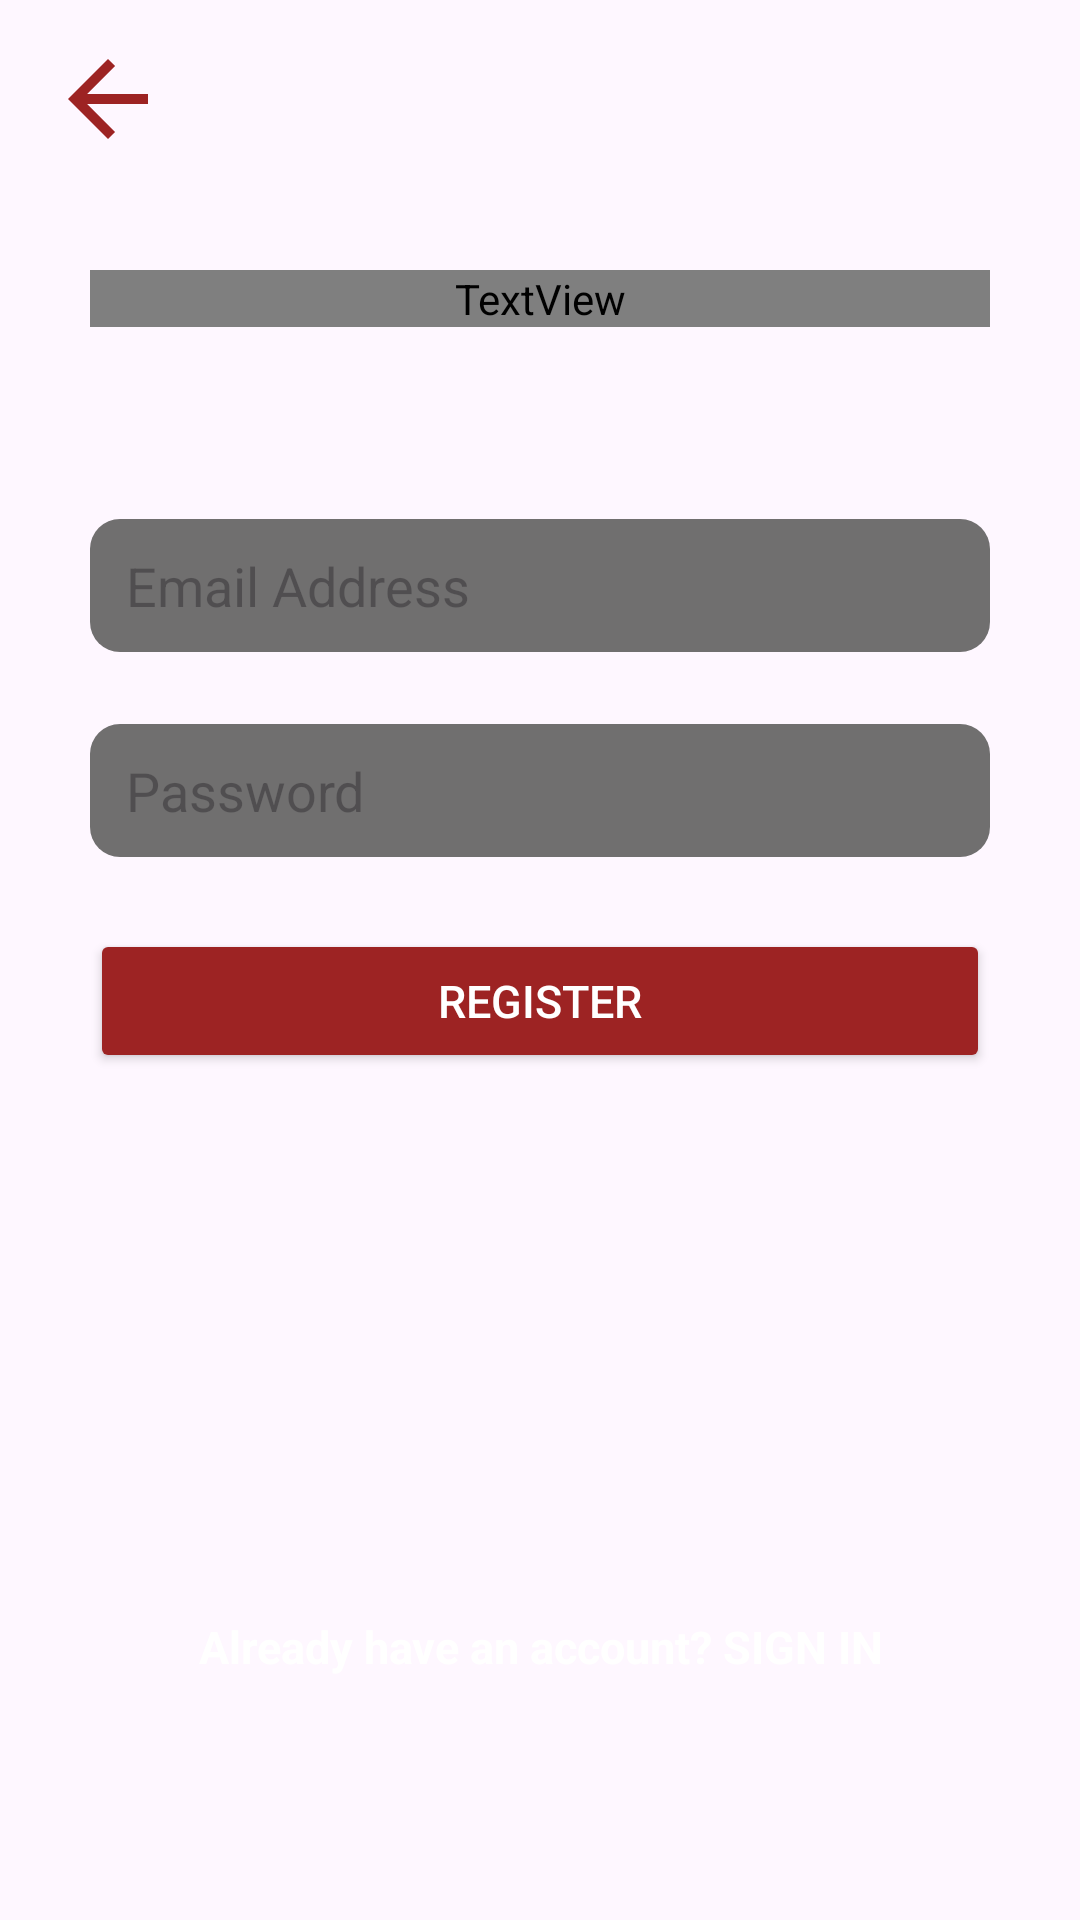

Point at icon controls on the screen. Image size 1080px x 1920px, points as (x=x, y=y).
arrow back: (x=108, y=99)
